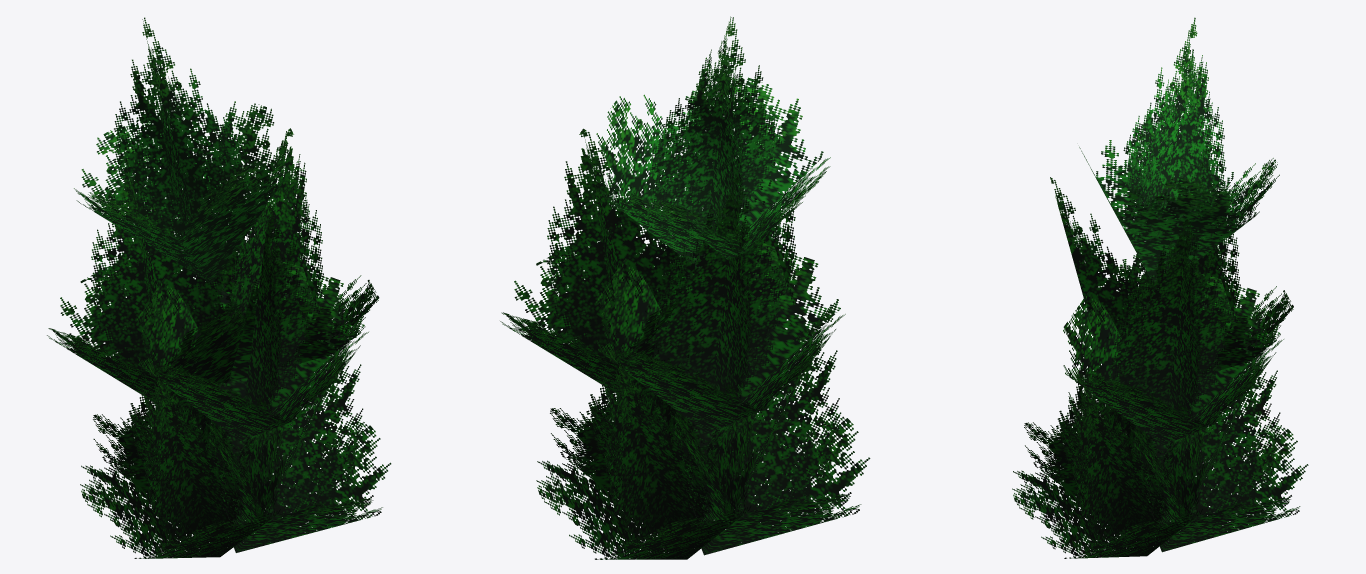
File: jeneverbes_1.fbx
The picture shows the model from 3 angles, left to right: view 1: azimuth 30°, elevation 25°; view 2: azimuth 150°, elevation 25°; view 3: azimuth 270°, elevation 25°; orthographic projection. The views are drawn at different scales.
Parts seen in each view (by area): view 1: jenverbes_1; view 2: jenverbes_1; view 3: jenverbes_1.
Boxes of the visible parts, x1=… form: jenverbes_1: x1=47, y1=17, x2=391, y2=558; jenverbes_1: x1=500, y1=16, x2=870, y2=559; jenverbes_1: x1=1012, y1=17, x2=1308, y2=558.
Bounding box in the file's own units: 378 × 570 × 409.
